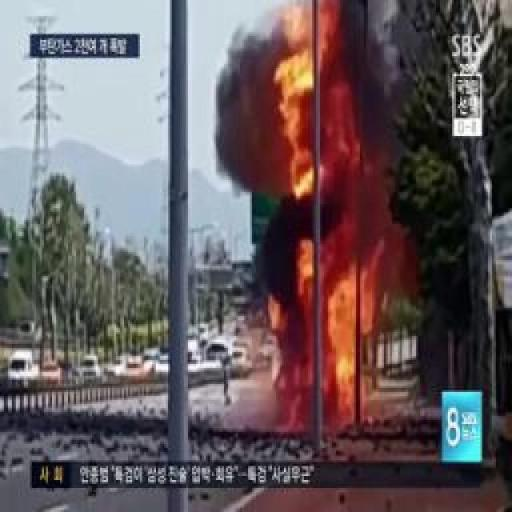smoke: (298, 226, 382, 424), (276, 25, 358, 187)
